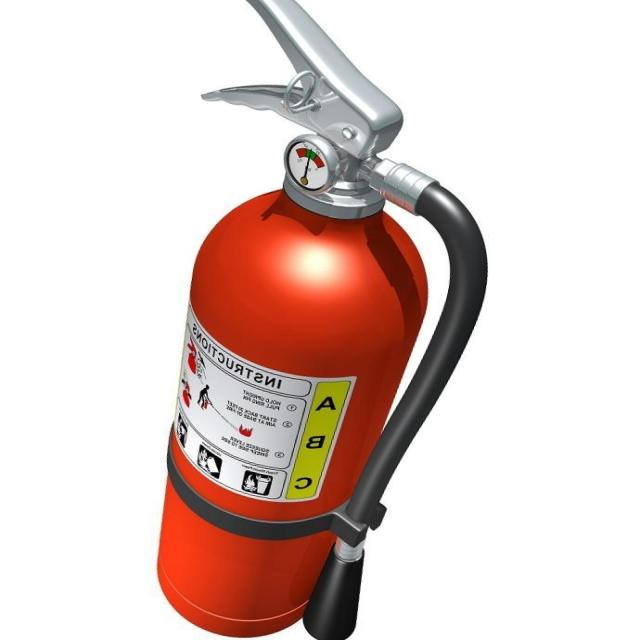fire_extinguisher: (141, 0, 503, 639)
